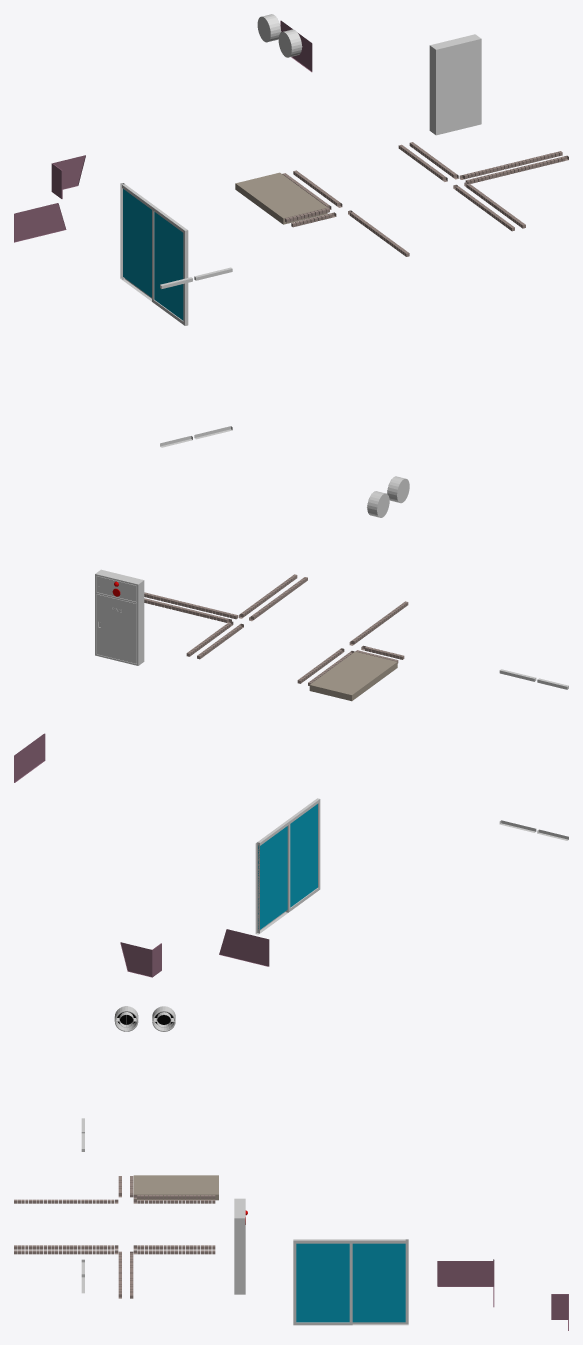
3 renders of one model, top to bottom at view 1: azimuth 30°, elevation 25°; view 2: azimuth 150°, elevation 25°; view 3: azimuth 270°, elevation 25°, orthographic. The views are drawn at different scales.
Bounding box in the file's own units: 7.06 × 5.68 × 8.91.
